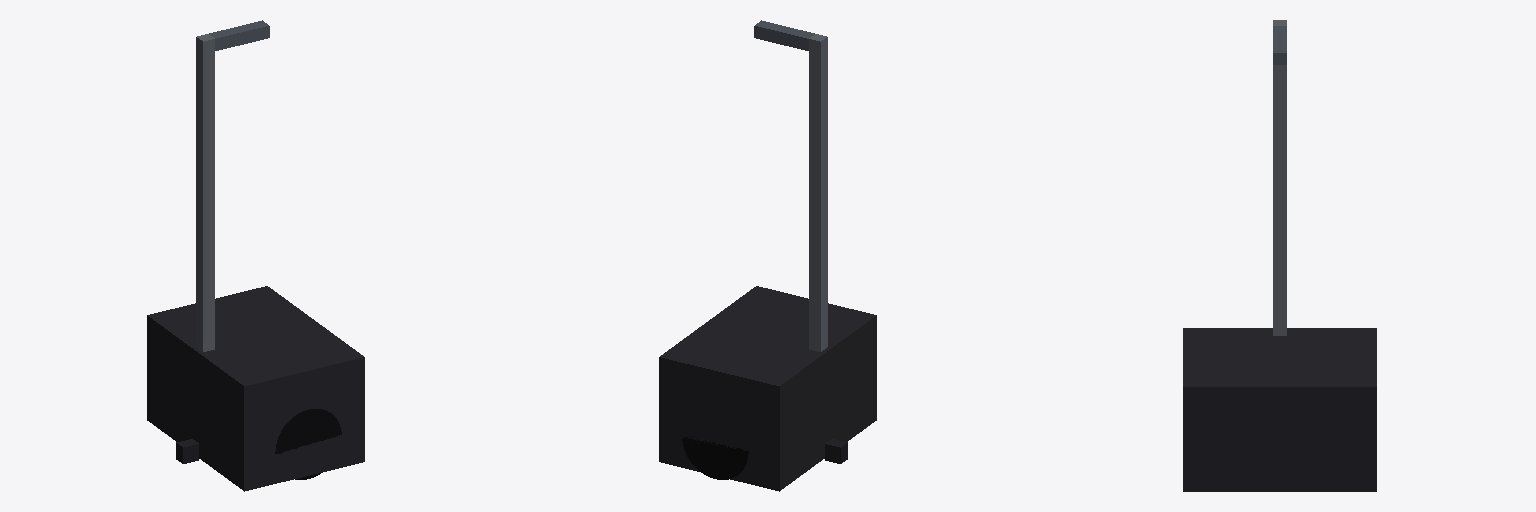
The robot description file, URDF, robot "kevin_thin":
<?xml version="1.0"?>
<!-- Thin primitive Kevin for robox3d.load_urdf (collision-friendly).
     Origin: axle centre, +X forward, +Y left, +Z up (same as generate_urdf.py).
     Dimensions approximate robot/anglerdroid.urdf + sim/box3d.py constants.
     No STL meshes — boxes/cylinders only so load_urdf collision works. -->
<robot name="kevin_thin">
  <link name="base_link">
    <inertial>
      <origin xyz="-0.02 0.0 0.05" rpy="0 0 0"/>
      <mass value="8.0"/>
      <!-- Rough box inertia about COM for ~0.30×0.42×0.25 @ 8 kg -->
      <inertia ixx="0.15" ixy="0" ixz="0" iyy="0.12" iyz="0" izz="0.18"/>
    </inertial>

    <!-- Body footprint (L×W×H ≈ 0.30×0.42×0.25) -->
    <visual name="body">
      <origin xyz="-0.01 0.0 0.05" rpy="0 0 0"/>
      <geometry><box size="0.30 0.42 0.25"/></geometry>
      <material name="body_mat"><color rgba="0.18 0.18 0.20 1"/></material>
    </visual>
    <collision name="body">
      <origin xyz="-0.01 0.0 0.05" rpy="0 0 0"/>
      <geometry><box size="0.30 0.42 0.25"/></geometry>
    </collision>

    <!-- Drive wheels (r≈0.083, track≈0.37, wheelbase L≈0.34 visual context) -->
    <visual name="wheel_left">
      <origin xyz="0.0 -0.185 0.0" rpy="1.5708 0 0"/>
      <geometry><cylinder radius="0.083" length="0.05"/></geometry>
      <material name="wheel_mat"><color rgba="0.09 0.09 0.10 1"/></material>
    </visual>
    <collision name="wheel_left">
      <origin xyz="0.0 -0.185 0.0" rpy="1.5708 0 0"/>
      <geometry><cylinder radius="0.083" length="0.05"/></geometry>
    </collision>
    <visual name="wheel_right">
      <origin xyz="0.0 0.185 0.0" rpy="1.5708 0 0"/>
      <geometry><cylinder radius="0.083" length="0.05"/></geometry>
      <material name="wheel_mat"><color rgba="0.09 0.09 0.10 1"/></material>
    </visual>
    <collision name="wheel_right">
      <origin xyz="0.0 0.185 0.0" rpy="1.5708 0 0"/>
      <geometry><cylinder radius="0.083" length="0.05"/></geometry>
    </collision>

    <!-- Rear caster (approx) -->
    <visual name="caster">
      <origin xyz="-0.18 0.0 -0.06" rpy="0 0 0"/>
      <geometry><box size="0.04 0.03 0.04"/></geometry>
      <material name="caster_mat"><color rgba="0.16 0.16 0.18 1"/></material>
    </visual>
    <collision name="caster">
      <origin xyz="-0.18 0.0 -0.06" rpy="0 0 0"/>
      <geometry><box size="0.04 0.03 0.04"/></geometry>
    </collision>

    <!-- Mast ~0.03×0.03×0.78 near rear (matches anglerdroid.urdf mast visual) -->
    <visual name="mast">
      <origin xyz="-0.135 0.0 0.5243" rpy="0 0 0"/>
      <geometry><box size="0.03 0.03 0.78"/></geometry>
      <material name="mast_mat"><color rgba="0.40 0.42 0.45 1"/></material>
    </visual>
    <collision name="mast">
      <origin xyz="-0.135 0.0 0.5243" rpy="0 0 0"/>
      <geometry><box size="0.03 0.03 0.78"/></geometry>
    </collision>

    <!-- Short camera arm (visual+collision for boom under shelves) -->
    <visual name="camera_arm">
      <origin xyz="-0.0525 0.0 0.8993" rpy="0 0 0"/>
      <geometry><box size="0.135 0.03 0.03"/></geometry>
      <material name="arm_mat"><color rgba="0.34 0.36 0.40 1"/></material>
    </visual>
    <collision name="camera_arm">
      <origin xyz="-0.0525 0.0 0.8993" rpy="0 0 0"/>
      <geometry><box size="0.135 0.03 0.03"/></geometry>
    </collision>
  </link>
</robot>

--- What the picture shows (computed from the rendered views, not written in the file) ---
Views: 3 orthographic renders of the robot side by side, from view 1: azimuth 30°, elevation 25°; view 2: azimuth 150°, elevation 25°; view 3: azimuth 270°, elevation 25°.
Robot: kevin_thin — 1 links, 0 joints (none); root link base_link; default pose: every joint at zero.
Visible links, largest first — view 1: base_link; view 2: base_link; view 3: base_link.
Link boxes in pixels (x1,y1,x2,y2): base_link: (147,20,364,491); base_link: (659,20,876,491); base_link: (1183,20,1376,491).
Size in the robot's own frame: 0.34 by 0.42 by 0.9973 metres.
Geometry: primitives only (box / cylinder / sphere), no mesh files.
